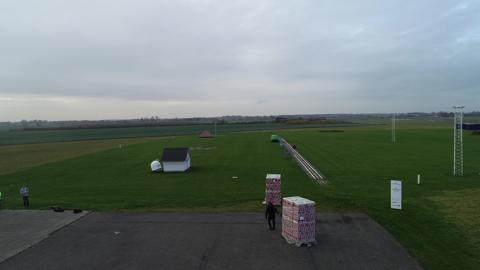RockwoolPallet: (264, 173, 283, 204)
